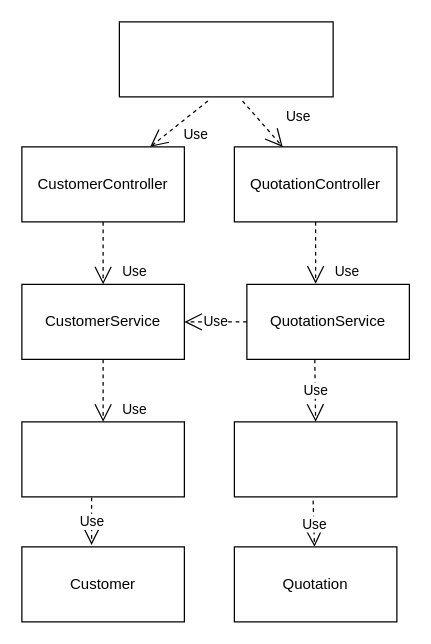
This 431x644 diagram has some shape labels left out. Here are the shapes that lost their labels. From the top down, the centre of each, then its label:
At (x=225, y=59): "CustomerServiceApplication".
At (x=102, y=459): "CustomerRepository".
At (x=315, y=459): "QuotationRepository".
